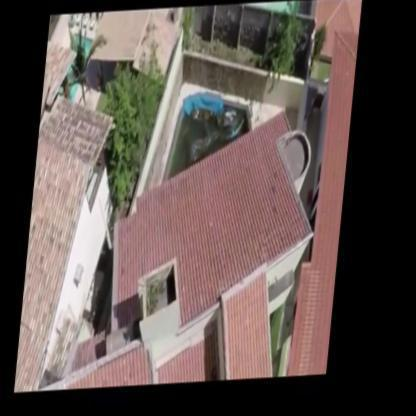agua: (185, 103, 248, 152)
